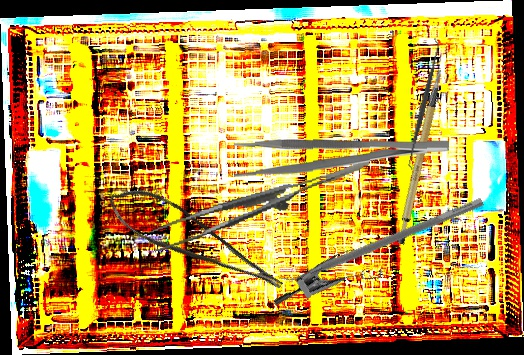Dressing Forceps: (233, 135, 450, 179)
Micro Scissor: (101, 171, 287, 319)
Scalpel Handle: (375, 69, 469, 246)
Spatula Surgical: (276, 188, 485, 291), (400, 37, 447, 171)
Speculum: (271, 224, 394, 343)
Tissue Forceps: (145, 160, 378, 252)
